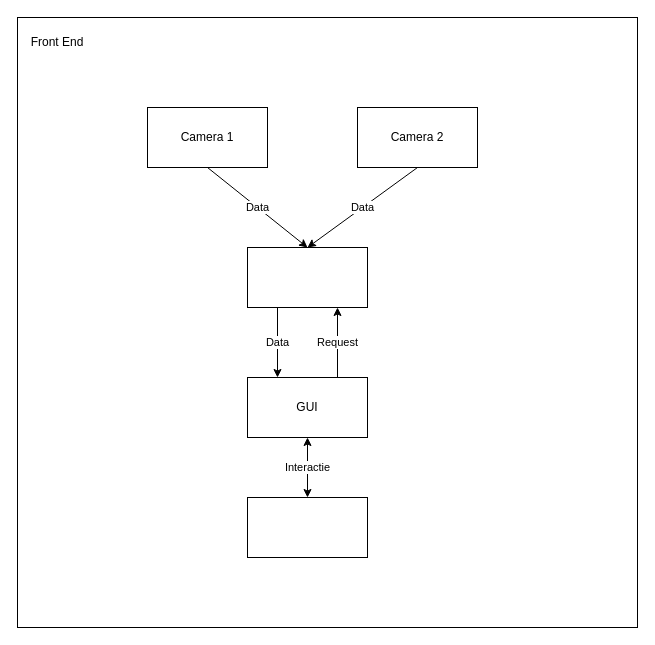
This 655x645 diagram has some shape labels left out. The centre of each missing label's shape, as x and y in pixels:
"Microcontroller" belongs at (307,277).
"User" belongs at (307,527).
